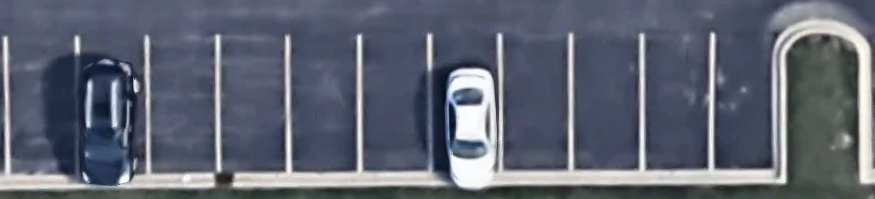Occupied: (77, 35, 148, 181), (429, 34, 500, 178)
Vacant: (147, 35, 219, 181), (217, 35, 289, 181), (288, 35, 360, 181), (5, 35, 77, 180), (499, 34, 571, 176), (359, 34, 430, 177), (571, 34, 642, 175), (641, 34, 712, 175), (713, 35, 776, 172)
